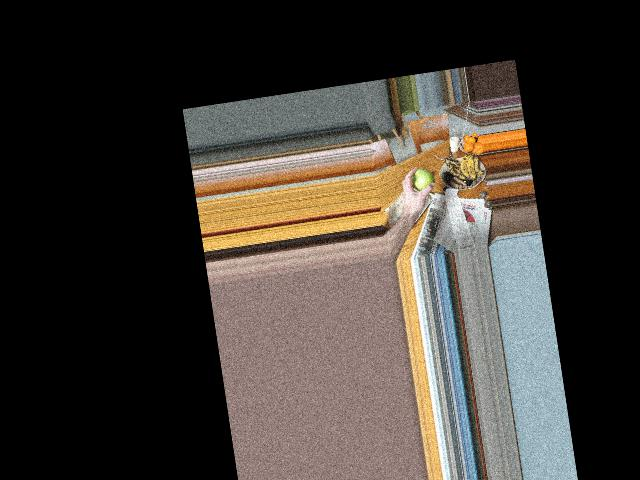apple: (409, 167, 436, 193)
